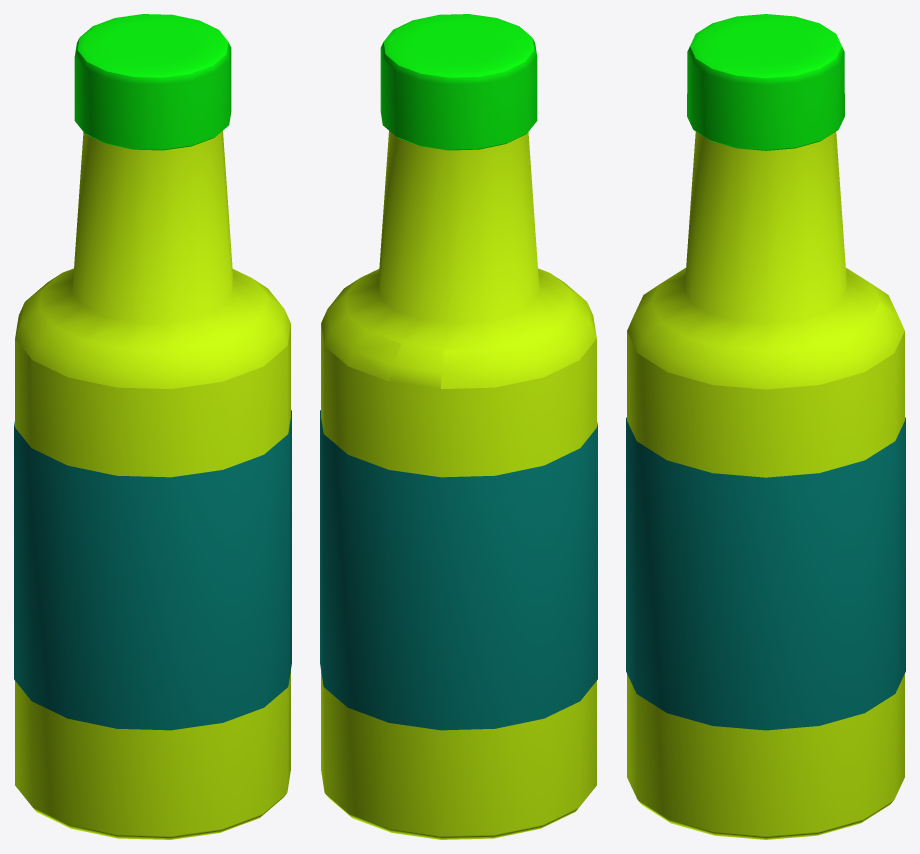
The model's file is Glass Bottle 03.fbx.
The picture shows the model from 3 angles, left to right: view 1: azimuth 30°, elevation 25°; view 2: azimuth 150°, elevation 25°; view 3: azimuth 270°, elevation 25°; orthographic projection.
Parts seen in each view (by area): view 1: Glass_bottle_03; view 2: Glass_bottle_03; view 3: Glass_bottle_03.
Boxes of the visible parts, x1,y1,x2,y2 form: Glass_bottle_03: (14, 14, 291, 839); Glass_bottle_03: (320, 14, 597, 839); Glass_bottle_03: (626, 14, 905, 839).
Bounding box in the file's own units: 14.11 × 14.11 × 41.14.
